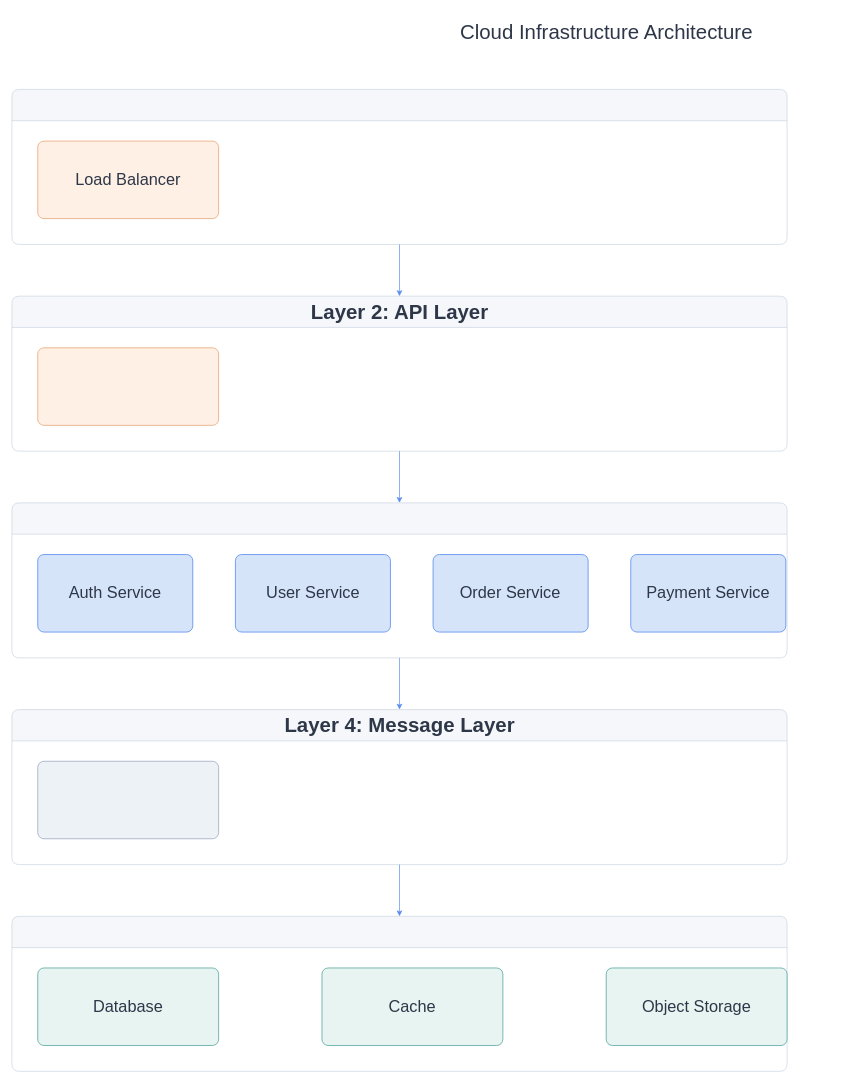
The diagram is 851 pixels wide and 1083 high, and some of its shapes have lost their labels. Here are the shapes that lost their labels. From the top down, the box of each, then its label:
(11, 89, 787, 244): Layer 1: Presentation
(37, 347, 219, 425): API Gateway
(11, 502, 787, 658): Layer 3: Application Services
(37, 761, 219, 839): Message Queue
(11, 916, 787, 1071): Layer 5: Data Layer
